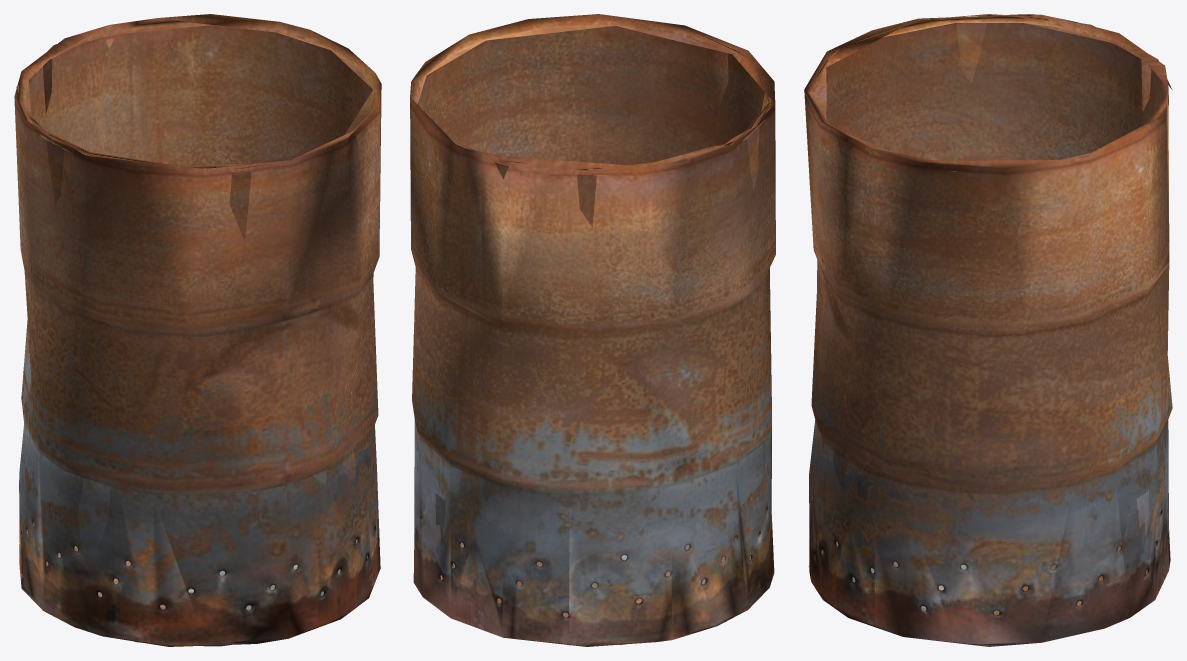
3 views of the same model, side by side, from view 1: azimuth 30°, elevation 25°; view 2: azimuth 150°, elevation 25°; view 3: azimuth 270°, elevation 25° (orthographic).
Parts seen in each view (by area): view 1: barrel_stove; view 2: barrel_stove; view 3: barrel_stove.
Boxes of the visible parts, x1,y1,x2,y2 form: barrel_stove: (14, 14, 381, 646); barrel_stove: (410, 14, 775, 646); barrel_stove: (804, 14, 1172, 646).
Bounding box in the file's own units: 0.5865 × 0.8556 × 0.5906.
Materials: 1 (1 with a texture image).
